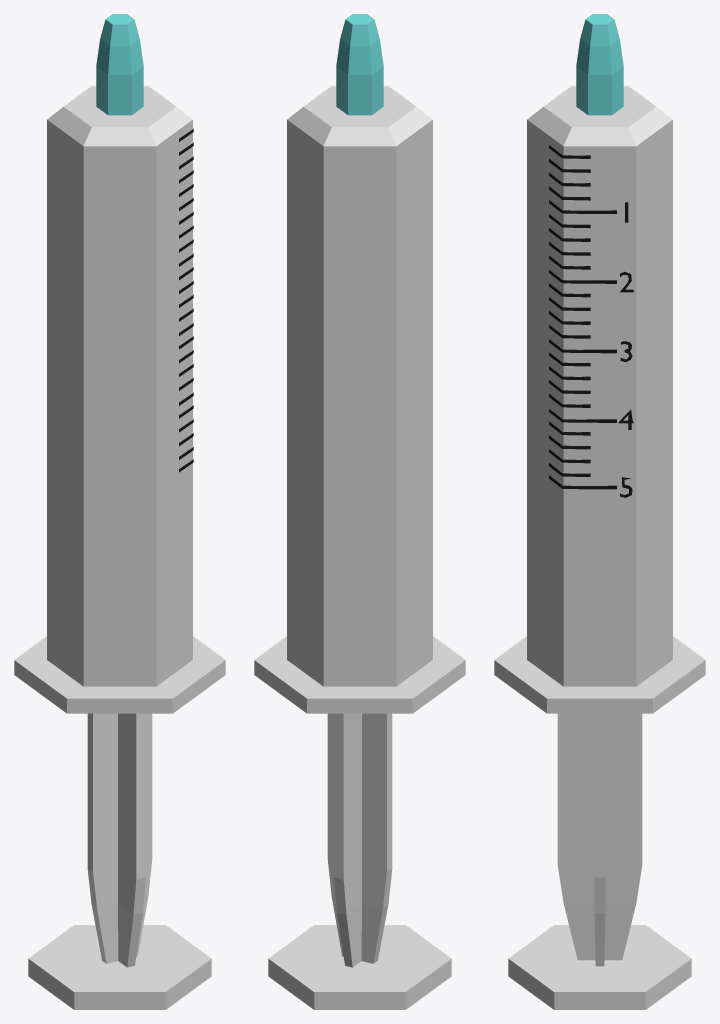
Rendered from XiLanh.fbx.
The picture shows the model from 3 angles, left to right: view 1: azimuth 30°, elevation 25°; view 2: azimuth 150°, elevation 25°; view 3: azimuth 270°, elevation 25°; orthographic projection.
Visible parts, largest first — view 1: Barrel_Cylinder.001, Plunger_Cube.001; view 2: Barrel_Cylinder.001, Plunger_Cube.001; view 3: Barrel_Cylinder.001, Plunger_Cube.001.
Part boxes in pixels (x1,y1,x2,y2): Barrel_Cylinder.001: (14,14,225,713); Plunger_Cube.001: (28,713,211,1009); Barrel_Cylinder.001: (254,14,465,713); Plunger_Cube.001: (268,713,451,1009); Barrel_Cylinder.001: (494,14,705,713); Plunger_Cube.001: (508,713,691,1009).
Size of the model in its own units: 29.63 by 171 by 34.22.
